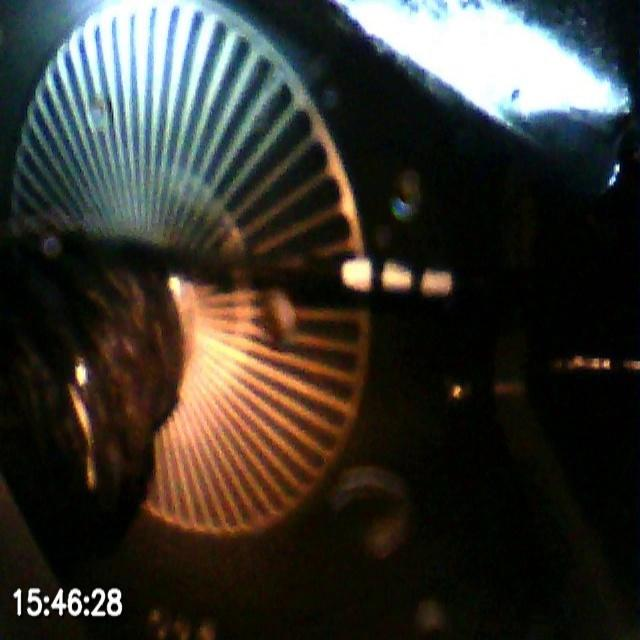white-dots: (339, 256, 453, 299)
